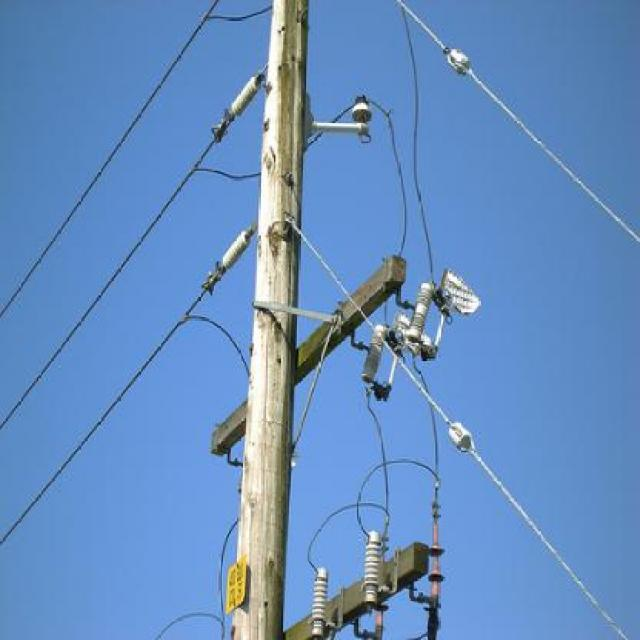pole: (229, 52, 322, 606)
